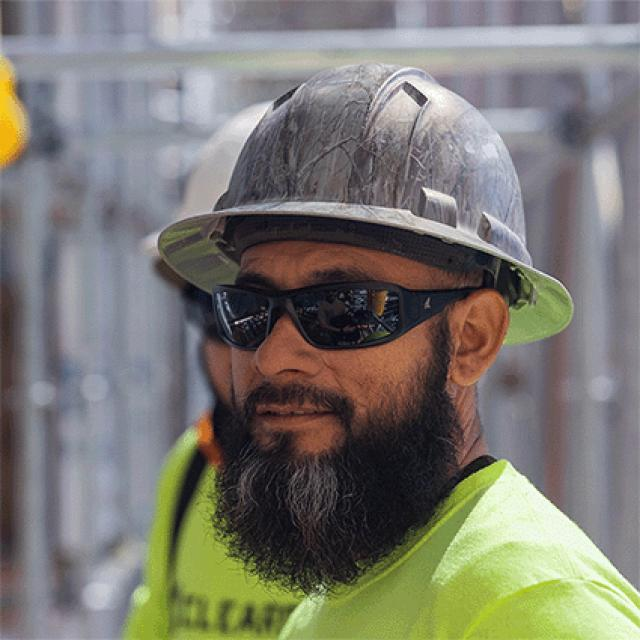Helmet: (139, 50, 565, 265)
Protective Glasses: (194, 268, 497, 358)
